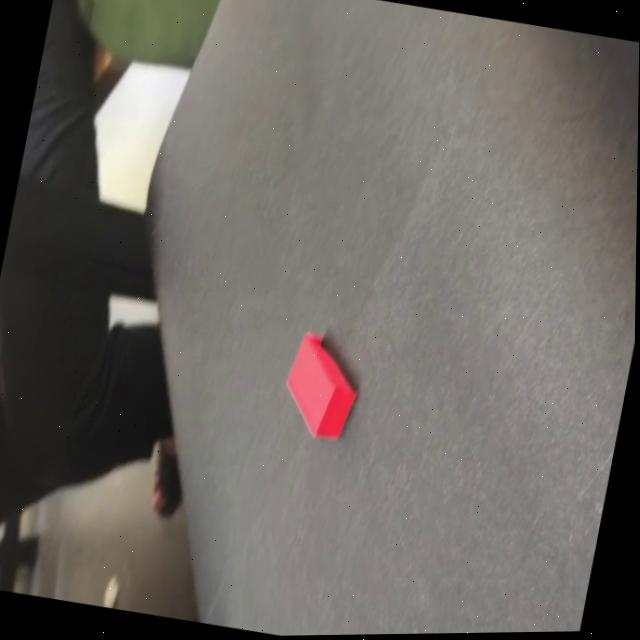red block: (274, 328, 365, 445)
